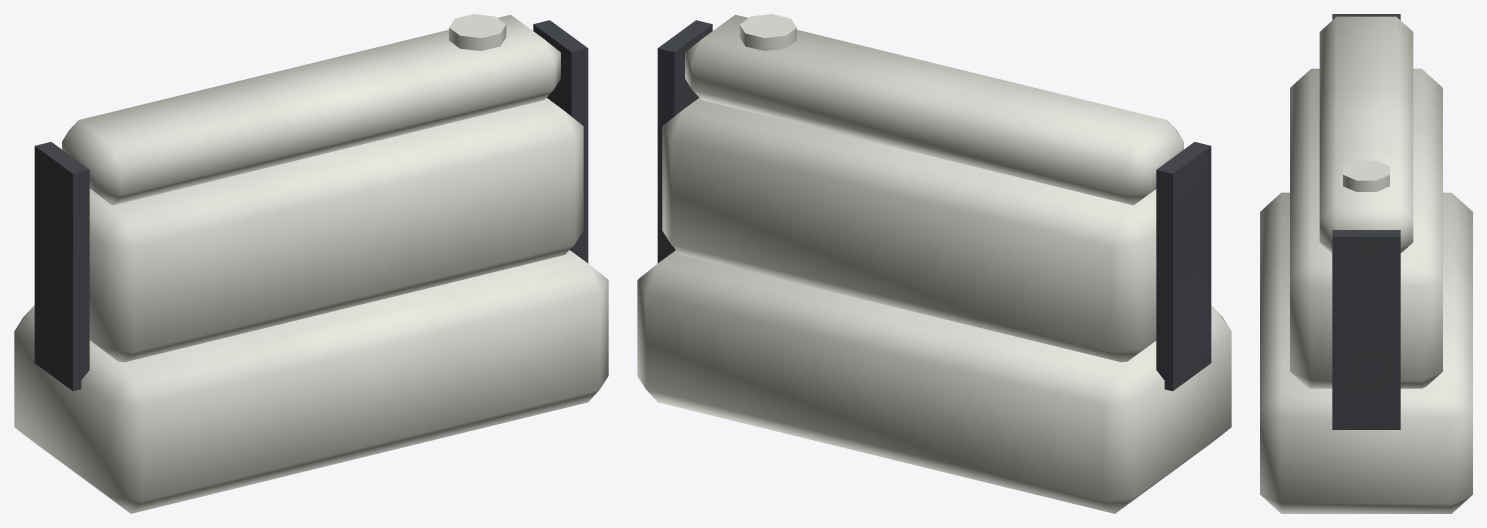
File: barreira_plastico_branca.glb
3 views of the same model, side by side, from view 1: azimuth 30°, elevation 25°; view 2: azimuth 150°, elevation 25°; view 3: azimuth 270°, elevation 25° (orthographic). The views are drawn at different scales.
Visible parts, largest first — view 1: Inteiro; view 2: Inteiro; view 3: Inteiro.
Boxes of the visible parts, x1,y1,x2,y2 form: Inteiro: (14,14,608,513); Inteiro: (637,14,1231,513); Inteiro: (1260,14,1472,513).
Bounding box in the file's own units: 1.24 × 0.82 × 0.5.
Materials: 1 (1 with a texture image).
